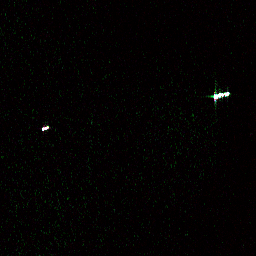ship: (211, 89, 231, 101), (39, 123, 51, 132)
